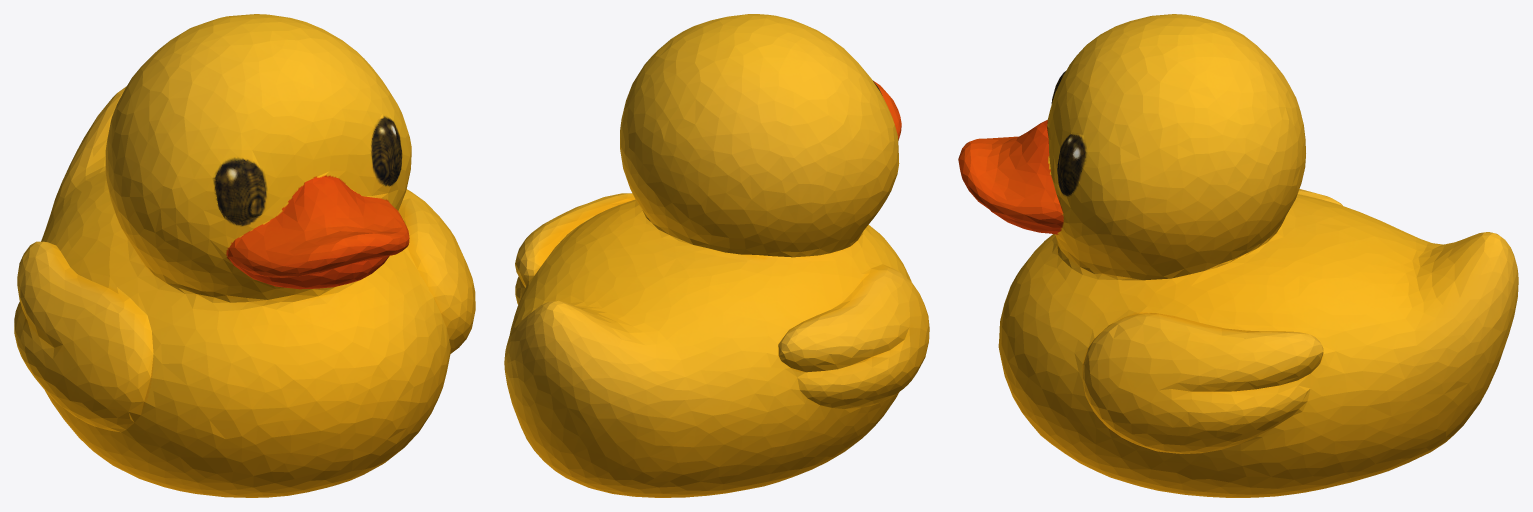
3 views of the same model, side by side, from view 1: azimuth 30°, elevation 25°; view 2: azimuth 150°, elevation 25°; view 3: azimuth 270°, elevation 25° (orthographic). The views are drawn at different scales.
Bounding box in the file's own units: 0.808 × 0.8311 × 1.
Materials: 1 (1 with a texture image).
